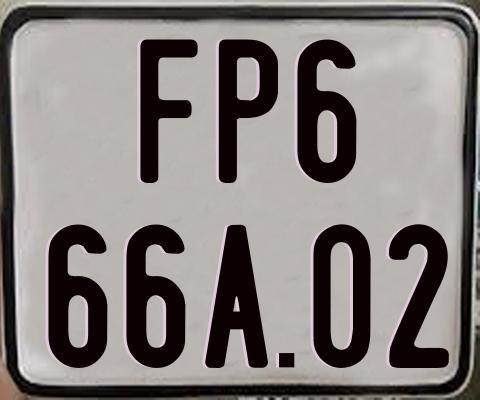0: (312, 221, 375, 366)
2: (387, 223, 449, 368)
6: (297, 37, 362, 186), (126, 223, 190, 371), (46, 224, 106, 369)
A: (202, 223, 270, 371)
F: (140, 36, 203, 186)
P: (219, 36, 282, 182)
